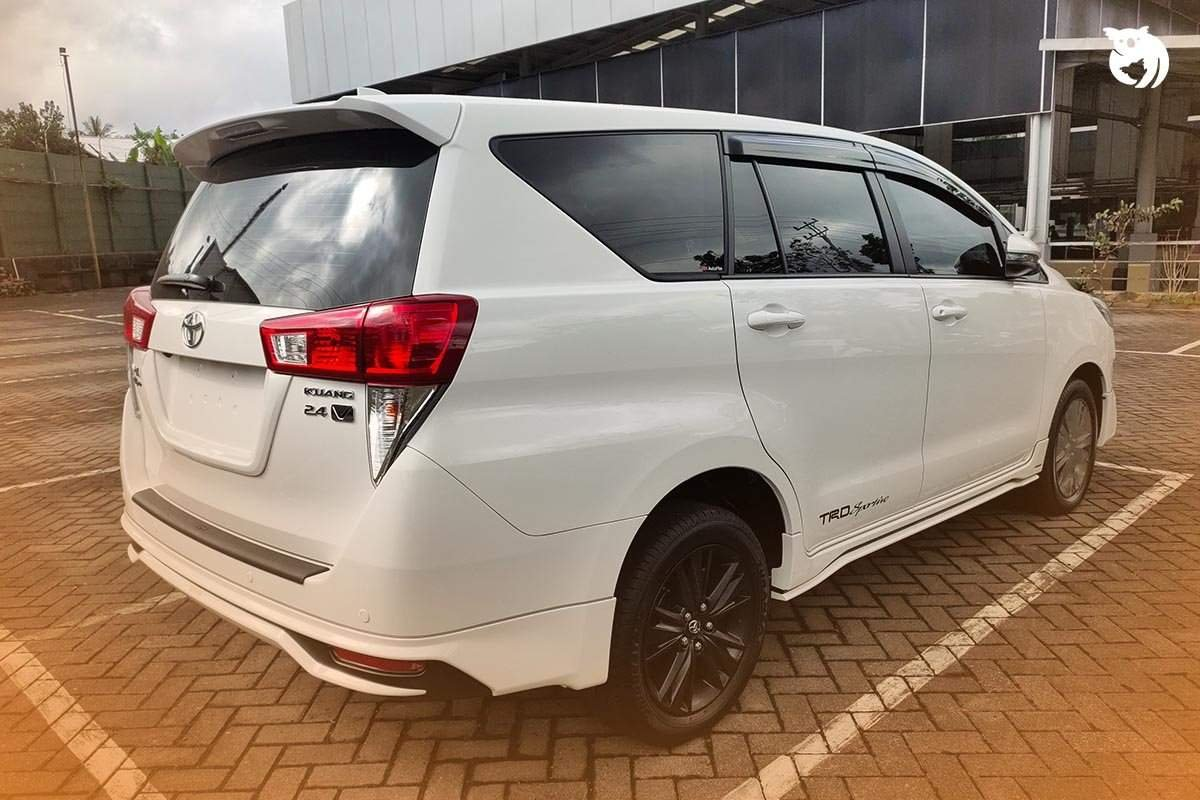mobil: (103, 91, 1165, 750)
